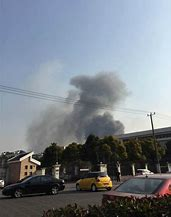smoke: (65, 73, 130, 136)
